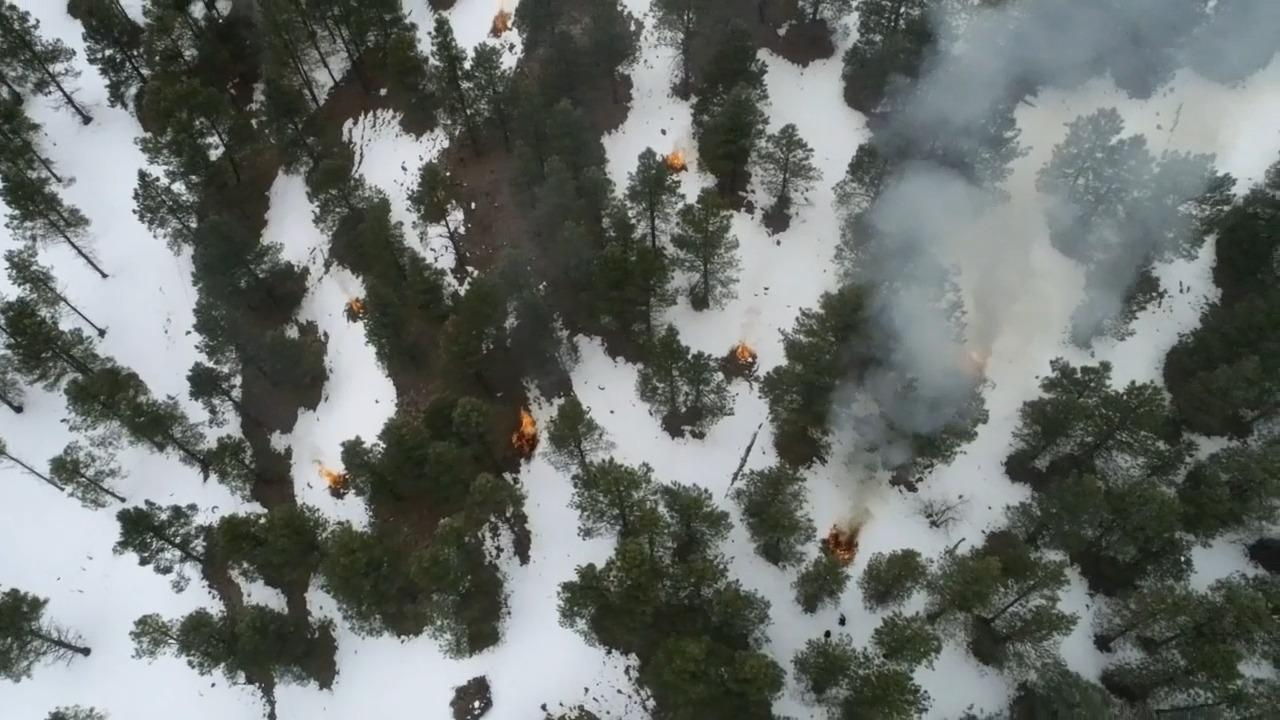fire: (510, 406, 550, 460), (821, 524, 870, 563), (729, 338, 760, 372), (658, 144, 687, 176)
smoke: (873, 0, 1280, 230), (842, 226, 1168, 453)
